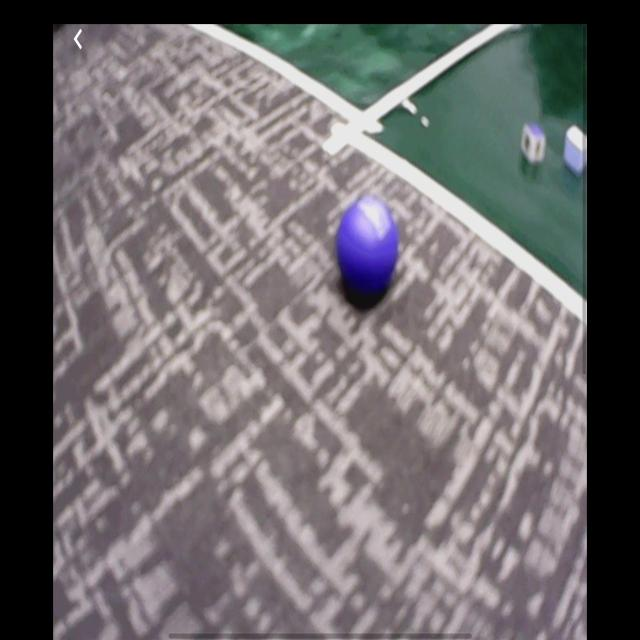ball: (335, 199, 401, 296)
